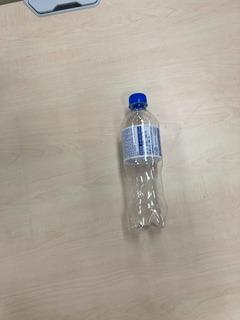BIODEGRADABLE: (116, 88, 168, 244)
